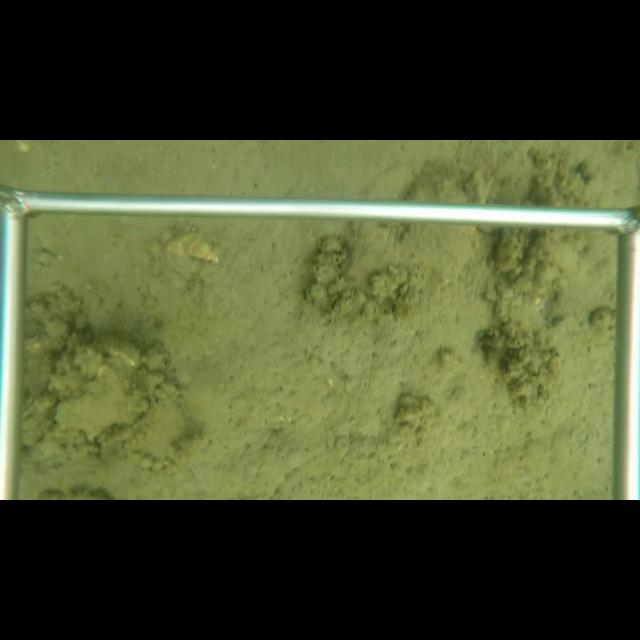Oyster-Closed: (396, 224, 479, 287), (123, 403, 193, 474)
